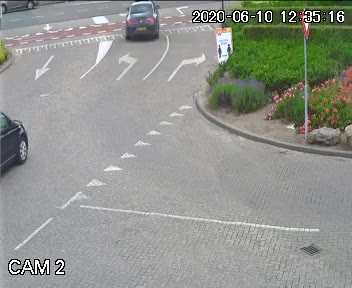car: (122, 1, 163, 48)
